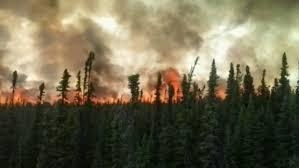fire: (140, 69, 186, 103)
